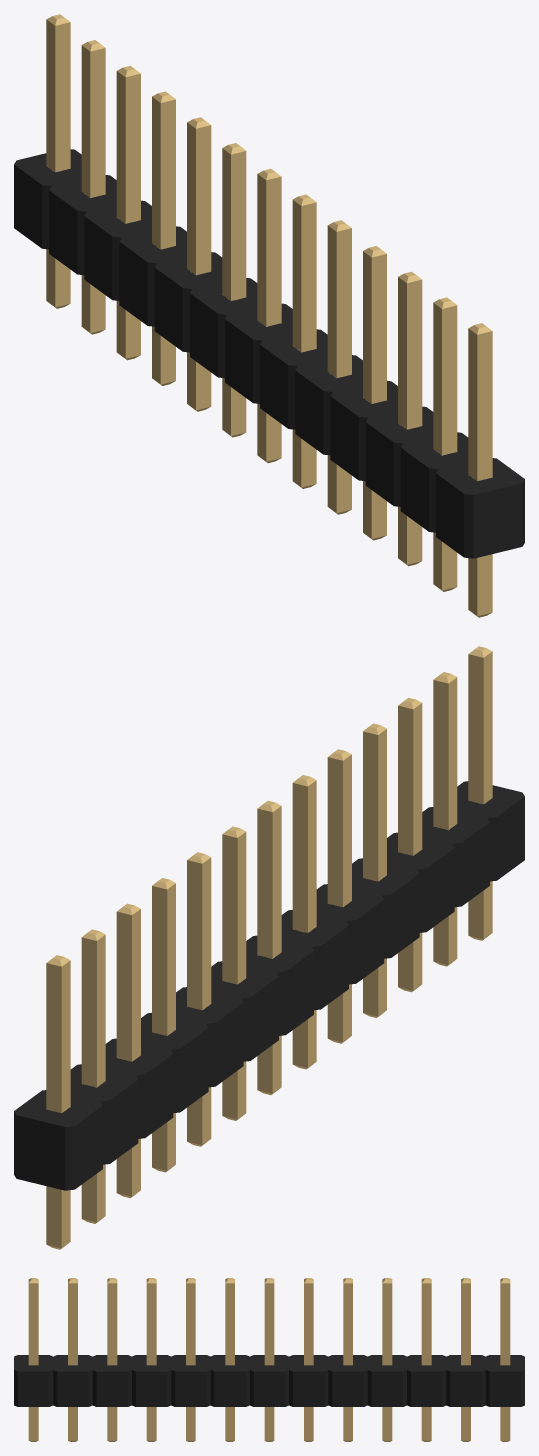
Rendered from kc-pinheader_1x13_p2.54mm_vertical.glb.
The picture shows the model from 3 angles, top to bottom: view 1: azimuth 30°, elevation 25°; view 2: azimuth 150°, elevation 25°; view 3: azimuth 270°, elevation 25°; orthographic projection. The views are drawn at different scales.
Parts seen in each view (by area): view 1: 0.75_0.5_0.25_0.9, 0_0_0_0; view 2: 0.75_0.5_0.25_0.9, 0_0_0_0; view 3: 0_0_0_0, 0.75_0.5_0.25_0.9.
Part boxes in pixels (x1,y1,x2,y2): 0.75_0.5_0.25_0.9: [46, 14, 492, 617]; 0_0_0_0: [14, 149, 524, 558]; 0.75_0.5_0.25_0.9: [46, 646, 492, 1249]; 0_0_0_0: [14, 781, 524, 1190]; 0_0_0_0: [14, 1355, 524, 1406]; 0.75_0.5_0.25_0.9: [28, 1278, 510, 1441].
Bounding box in the file's own units: 0.2539 × 1.15 × 3.3.
